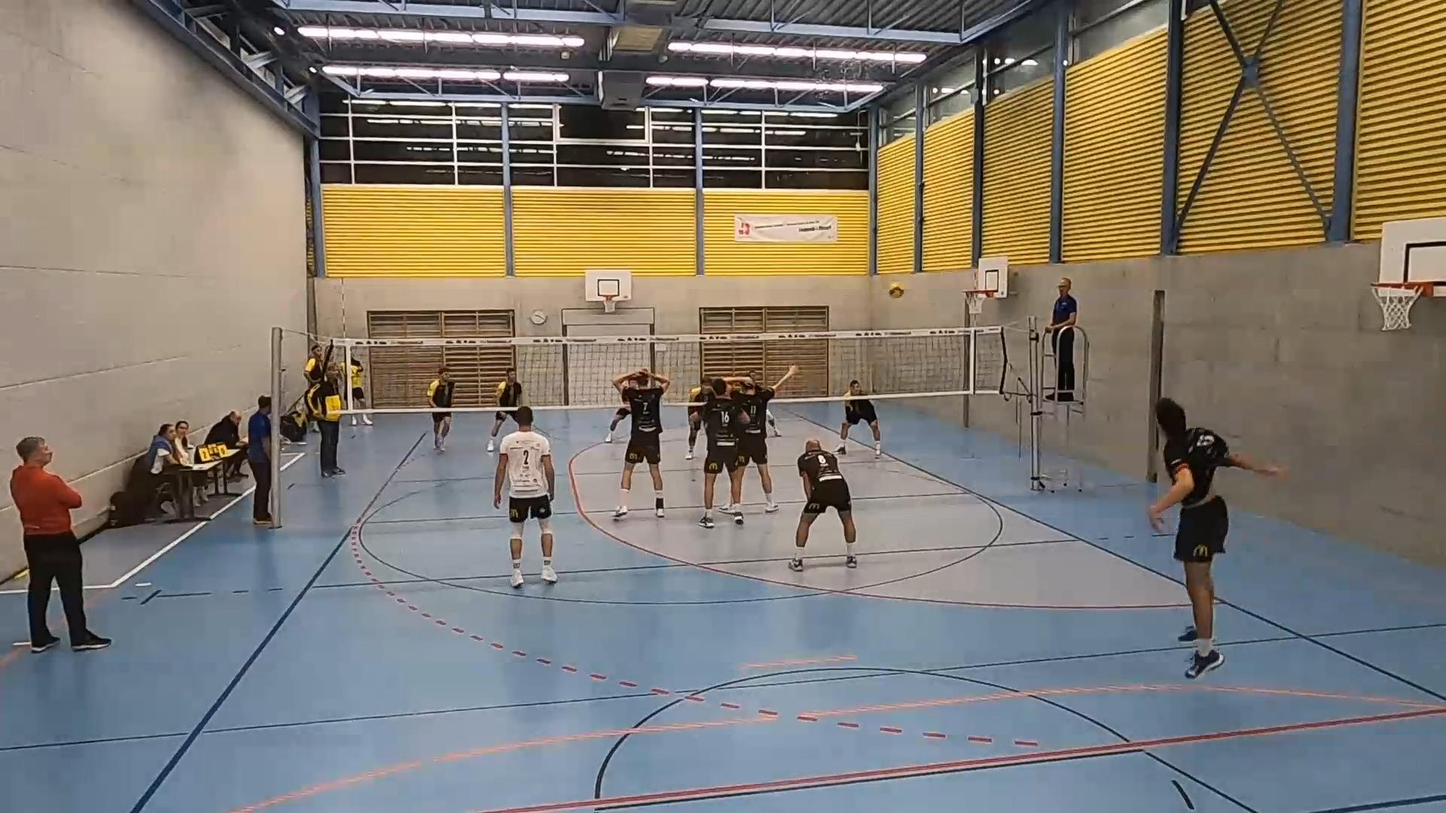Dig: (1146, 394, 1285, 686)
Player: (494, 406, 557, 587), (789, 439, 856, 571), (613, 368, 670, 519), (740, 365, 795, 512), (698, 378, 747, 528), (836, 379, 881, 457), (427, 366, 455, 451), (685, 376, 710, 458), (604, 379, 633, 442), (496, 367, 522, 406), (749, 370, 764, 381)
ball: (887, 279, 905, 300)
